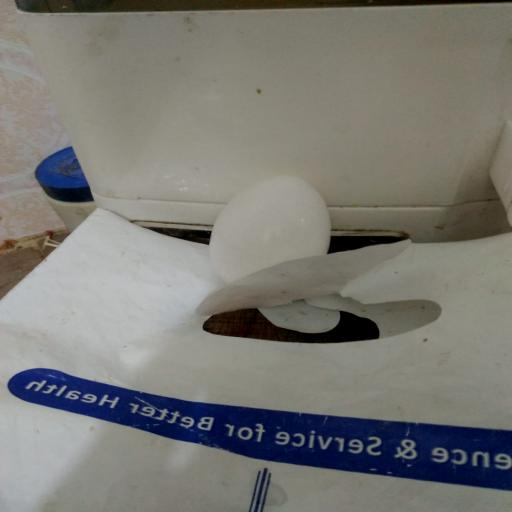telur: (210, 176, 330, 283)
